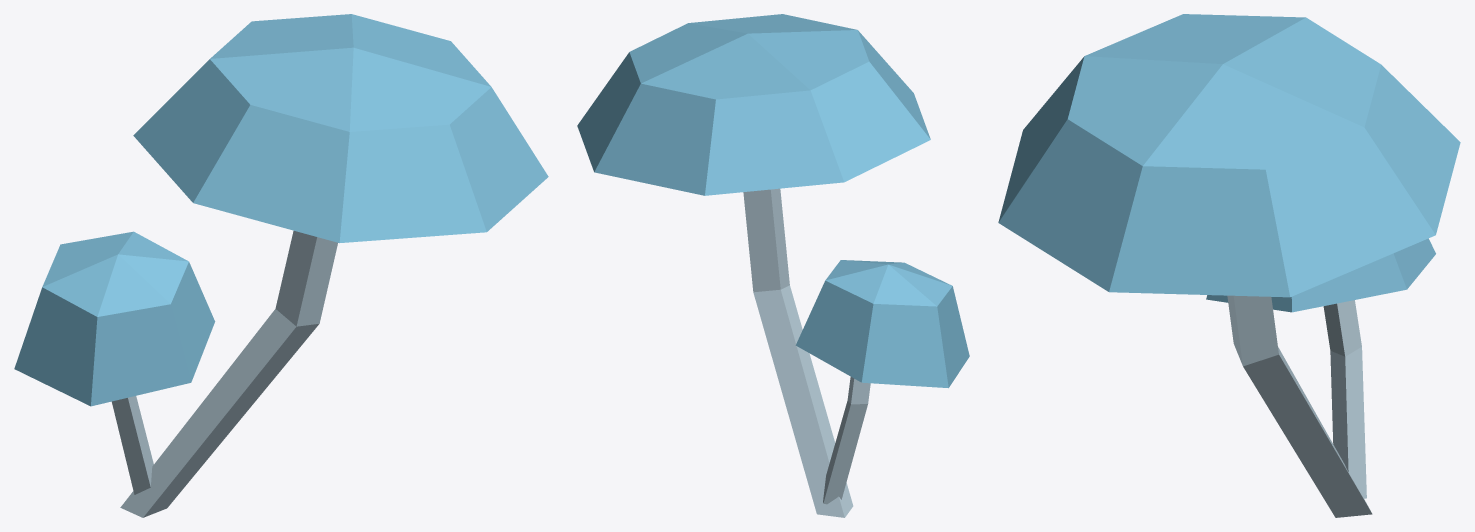
Rendered from Mushroom_a_04.fbx.
3 views of the same model, side by side, from view 1: azimuth 30°, elevation 25°; view 2: azimuth 150°, elevation 25°; view 3: azimuth 270°, elevation 25° (orthographic). The views are drawn at different scales.
Parts seen in each view (by area): view 1: Mushroom_a_04; view 2: Mushroom_a_04; view 3: Mushroom_a_04.
Boxes of the visible parts, x1,y1,x2,y2 form: Mushroom_a_04: [14, 14, 548, 517]; Mushroom_a_04: [577, 14, 969, 517]; Mushroom_a_04: [998, 14, 1460, 517].
Bounding box in the file's own units: 31.87 × 31.47 × 24.85.
